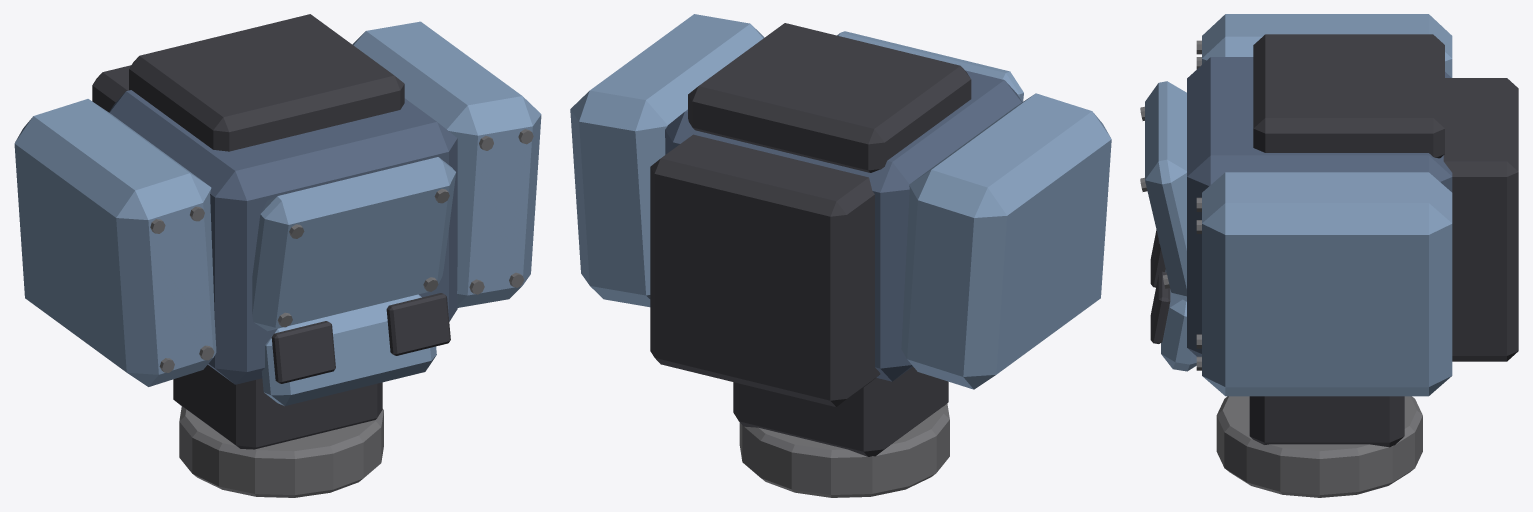
The model's file is recon_core.glb.
The picture shows the model from 3 angles, left to right: view 1: azimuth 30°, elevation 25°; view 2: azimuth 150°, elevation 25°; view 3: azimuth 270°, elevation 25°; orthographic projection. The views are drawn at different scales.
Parts seen in each view (by area): view 1: ChestSideR, ChestCore, ChestFront, Collar, ChestSideL, WaistRing, Abdomen, ChestLower, ChestVentL, ChestVentR, BackFrame; view 2: BackFrame, ChestSideR, Collar, ChestSideL, ChestCore, WaistRing, Abdomen, ChestFront; view 3: ChestSideL, Collar, BackFrame, ChestCore, WaistRing, Abdomen, ChestFront, ChestSideR, ChestLower, ChestVentL, ChestVentR.
Part boxes in pixels (x1,y1,x2,y2): ChestSideR: (14,99,216,386); ChestCore: (109,90,457,384); ChestFront: (252,157,456,331); Collar: (129,14,404,151); ChestSideL: (352,21,541,307); WaistRing: (179,406,383,497); Abdomen: (173,365,382,449); ChestLower: (261,294,436,405); ChestVentL: (386,293,450,355); ChestVentR: (271,321,335,383); BackFrame: (92,65,131,112); BackFrame: (650,134,880,407); ChestSideR: (901,93,1111,389); Collar: (688,23,971,172); ChestSideL: (570,14,764,307); ChestCore: (665,70,1021,381); WaistRing: (739,403,949,497); Abdomen: (733,367,948,456); ChestFront: (837,31,1023,101); ChestSideL: (1202,172,1452,396); Collar: (1253,34,1444,158); BackFrame: (1443,78,1518,361); ChestCore: (1187,57,1452,356); WaistRing: (1216,396,1422,497); Abdomen: (1249,396,1404,447); ChestFront: (1145,81,1186,301); ChestSideR: (1202,14,1452,77); ChestLower: (1161,269,1196,371); ChestVentL: (1150,271,1170,343); ChestVentR: (1150,230,1165,287).
Size of the model in its own units: 3.33 by 2.85 by 2.57.
